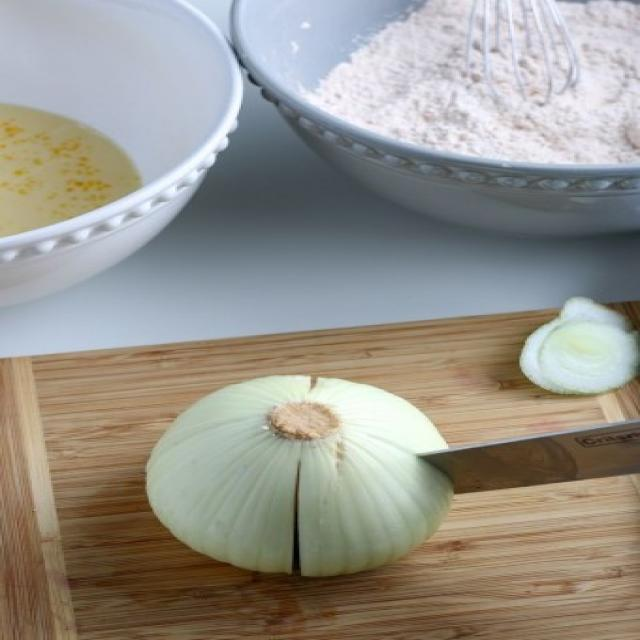onion: (148, 381, 516, 604)
